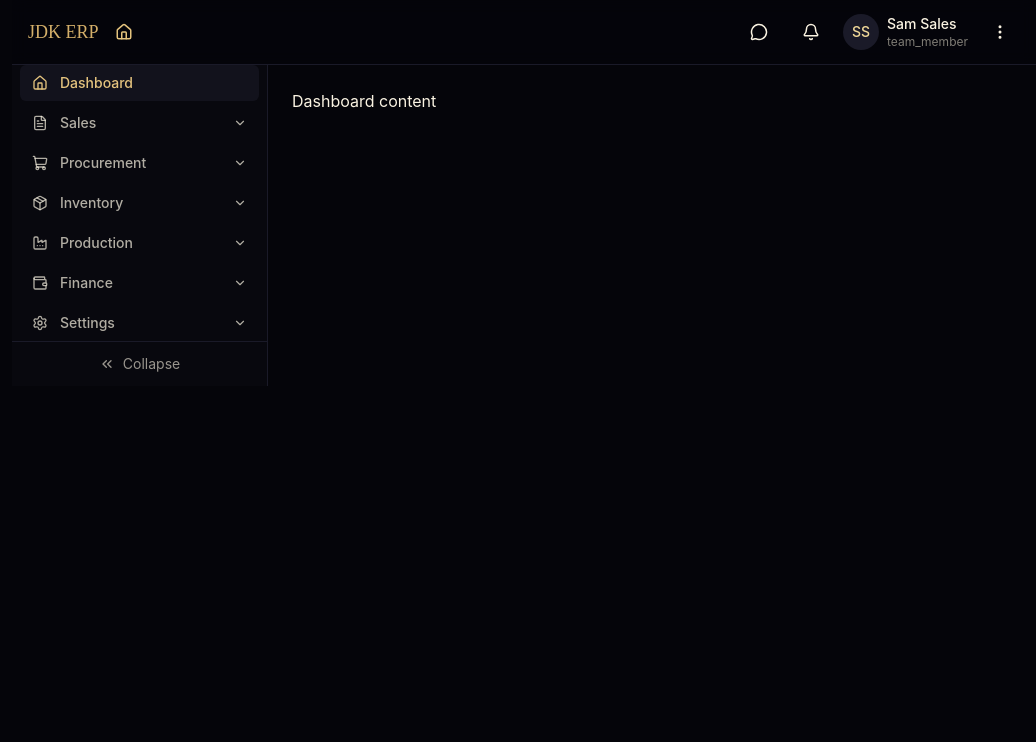
AppLayout › still gives non-admins the Master Data pages under Settings, without the admin pages
What coordinates should you click on to do the following:
click the button "Settings"
I would click on:
 (140, 323)
Its box is [20, 305, 259, 341].
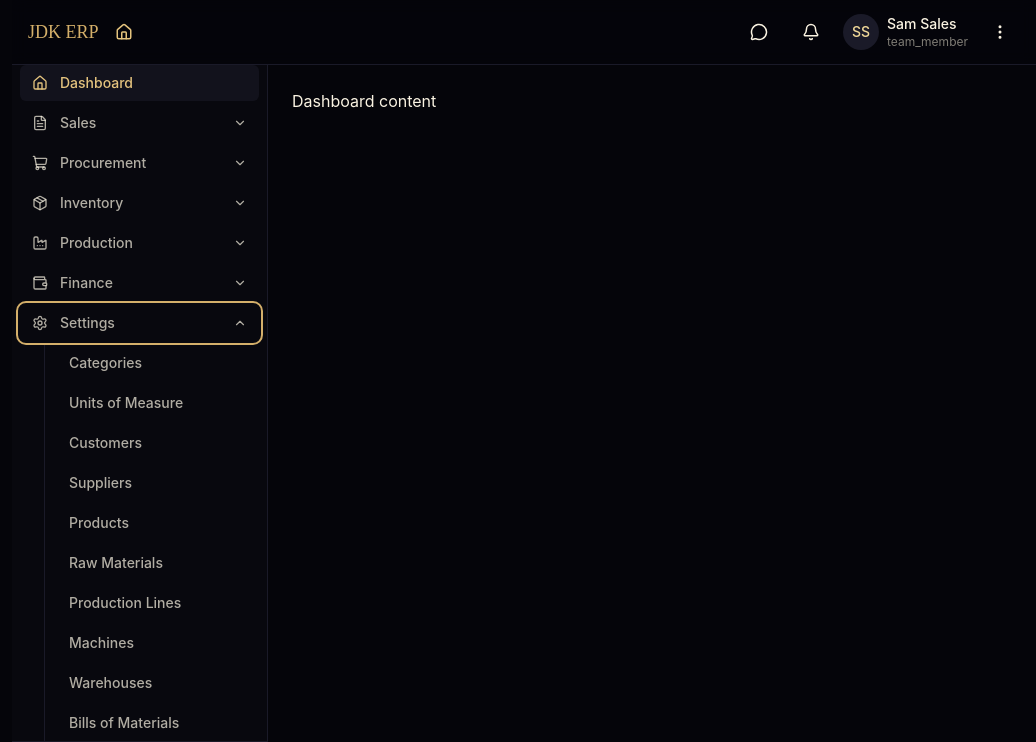
Result: the link "Customers" is shown at [69, 434, 142, 451]
Result: the link "Products" is shown at [69, 514, 129, 531]
